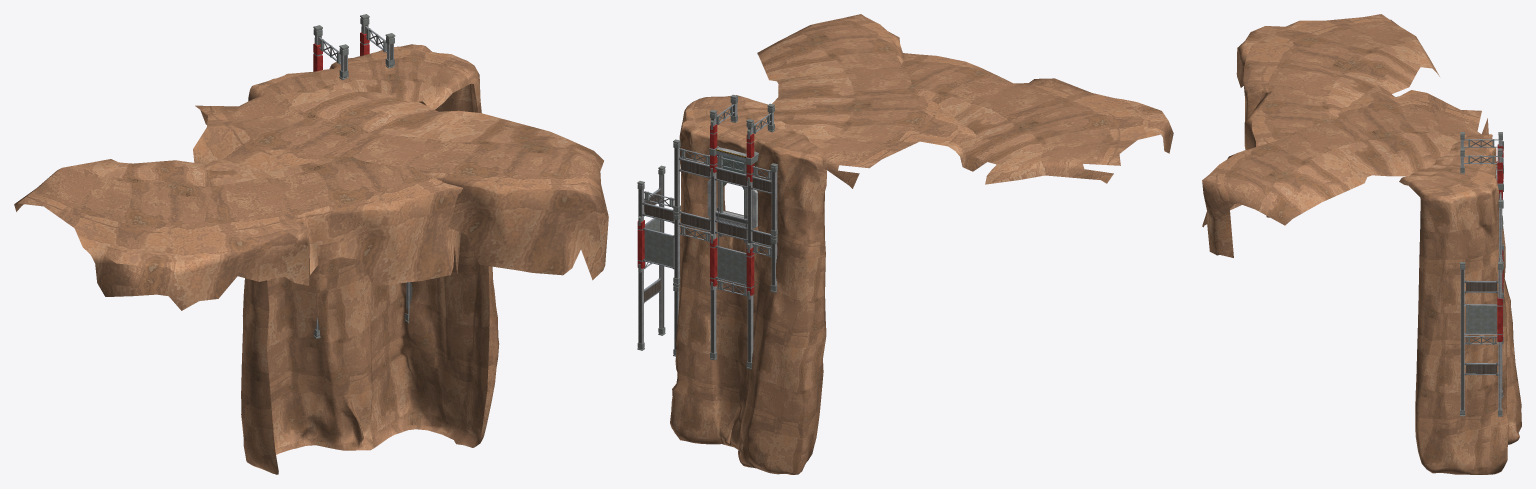
The model's file is Ob_CanyonCaveEntrance.fbx.
3 views of the same model, side by side, from view 1: azimuth 30°, elevation 25°; view 2: azimuth 150°, elevation 25°; view 3: azimuth 270°, elevation 25° (orthographic). The views are drawn at different scales.
Parts seen in each view (by area): view 1: Ob_CanyonCaveEntrance; view 2: Ob_CanyonCaveEntrance; view 3: Ob_CanyonCaveEntrance.
Boxes of the visible parts, x1,y1,x2,y2 form: Ob_CanyonCaveEntrance: (14, 14, 608, 474); Ob_CanyonCaveEntrance: (637, 14, 1173, 474); Ob_CanyonCaveEntrance: (1202, 14, 1521, 474).
Size of the model in its own units: 43954 by 34318 by 31929.
